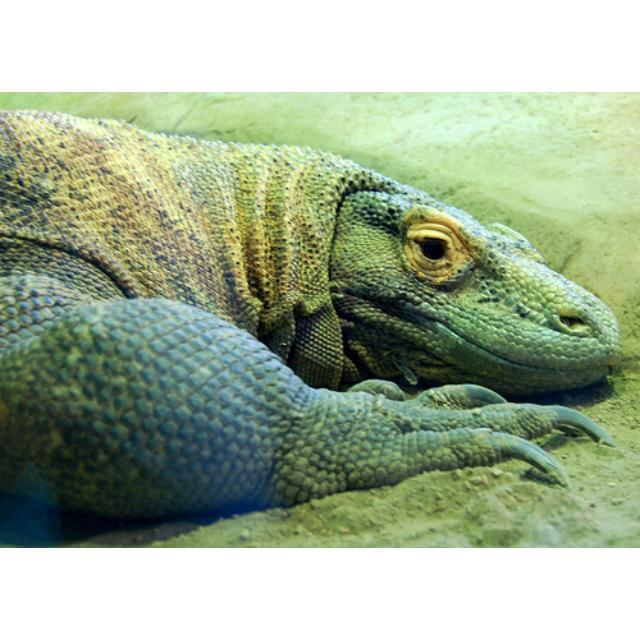KomodoDragon: (1, 107, 619, 516)
